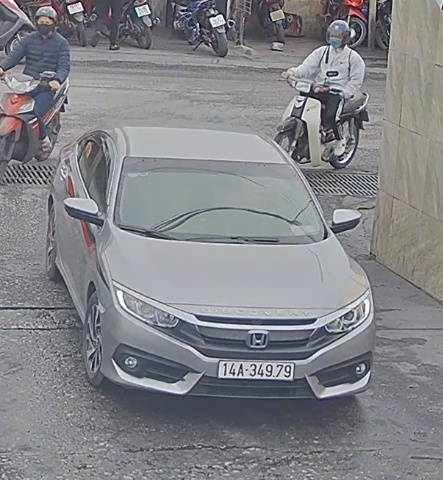vehicle plate: (210, 353, 299, 382)
